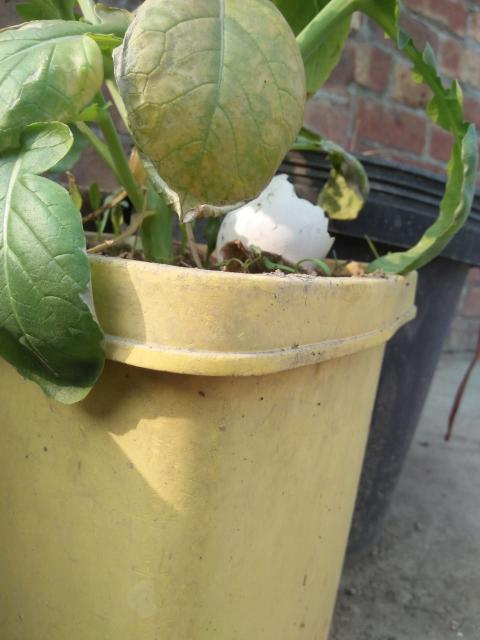Roto: (214, 172, 336, 272)
